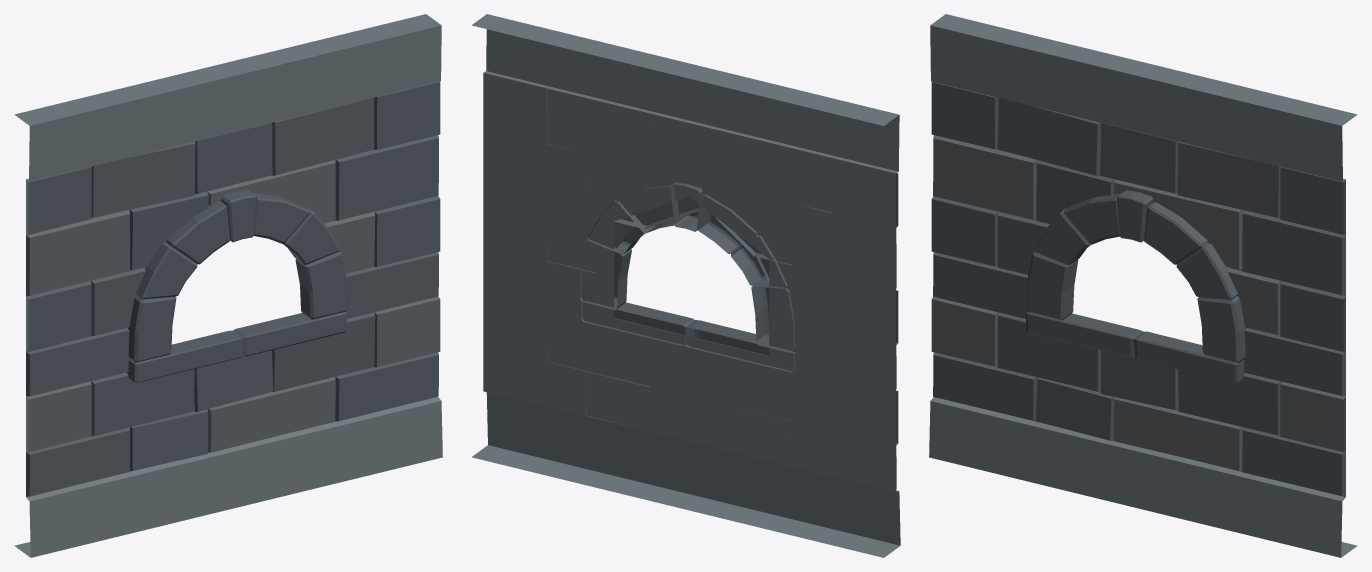
File: Wall_Window.fbx
3 views of the same model, side by side, from view 1: azimuth 30°, elevation 25°; view 2: azimuth 150°, elevation 25°; view 3: azimuth 330°, elevation 25° (orthographic).
Visible parts, largest first — view 1: Wall_Window; view 2: Wall_Window; view 3: Wall_Window.
Boxes of the visible parts, x1,y1,x2,y2 form: Wall_Window: (14, 14, 442, 557); Wall_Window: (471, 14, 900, 557); Wall_Window: (929, 14, 1357, 557).
Bounding box in the file's own units: 200 × 200 × 18.76.
